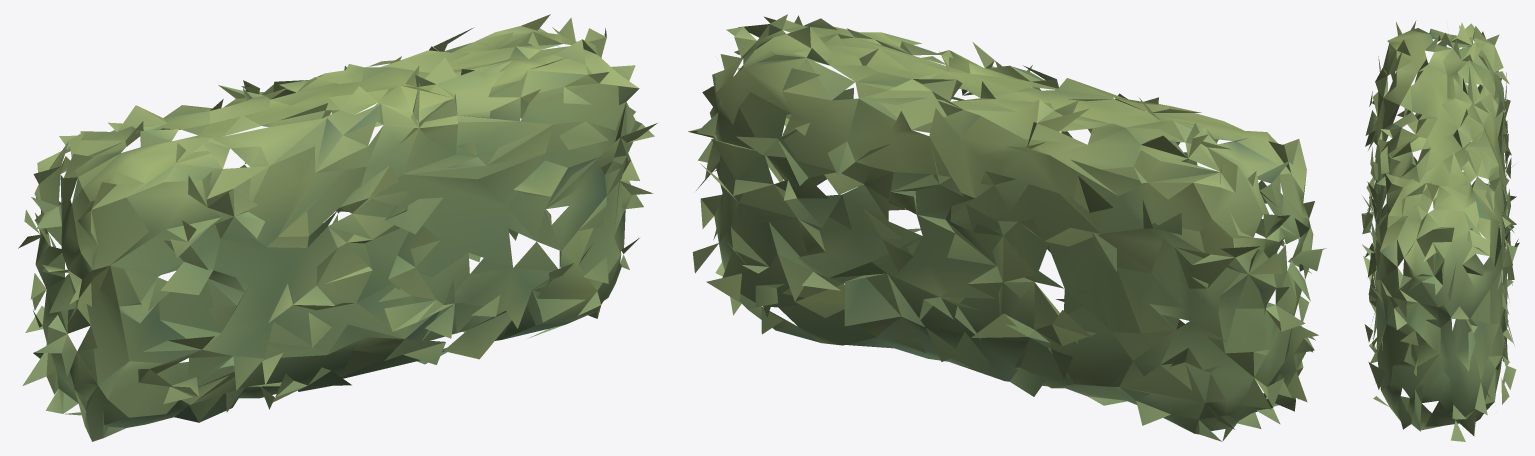
File: hedge_box.glb
3 renders of one model, left to right at view 1: azimuth 30°, elevation 25°; view 2: azimuth 150°, elevation 25°; view 3: azimuth 270°, elevation 25°, orthographic. The views are drawn at different scales.
Parts seen in each view (by area): view 1: geometry_0; view 2: geometry_0; view 3: geometry_0.
Boxes of the visible parts, x1,y1,x2,y2 form: geometry_0: (18,14,657,441); geometry_0: (688,14,1326,441); geometry_0: (1361,20,1519,441).
Bounding box in the file's own units: 3.3 × 1.5 × 0.92.
